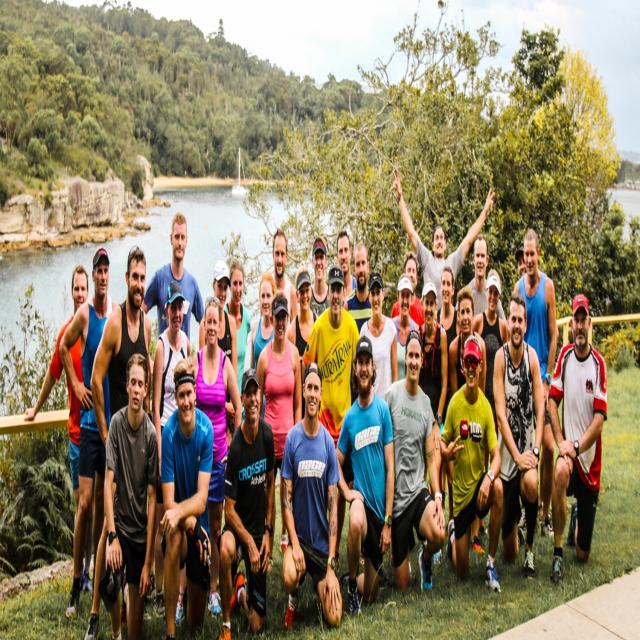body: (87, 240, 154, 639), (23, 265, 93, 597), (82, 351, 161, 639), (174, 294, 242, 626), (65, 247, 119, 623), (545, 291, 610, 589), (300, 261, 361, 578), (278, 359, 344, 633), (335, 330, 396, 618), (382, 327, 447, 596), (439, 333, 504, 600), (156, 353, 214, 639), (217, 366, 277, 639), (491, 292, 546, 583), (392, 169, 495, 314), (512, 227, 559, 542), (152, 279, 193, 622), (255, 290, 302, 580), (513, 242, 553, 530), (140, 211, 206, 375), (448, 290, 488, 557), (472, 268, 508, 537), (414, 281, 447, 565), (198, 259, 238, 460), (436, 265, 458, 531), (223, 256, 253, 426), (359, 272, 398, 401), (456, 231, 507, 324), (259, 228, 298, 337), (250, 272, 275, 422), (286, 267, 322, 371), (391, 274, 420, 382), (391, 253, 426, 339), (343, 241, 373, 335), (308, 235, 332, 323), (336, 226, 358, 306)
